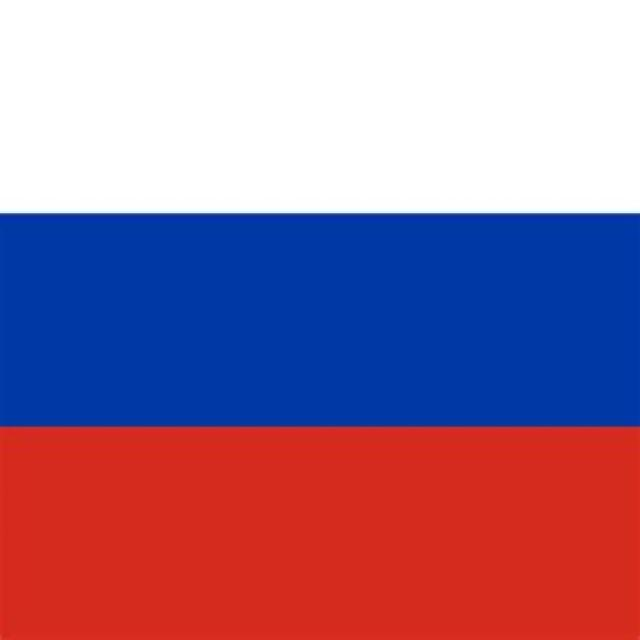russia: (24, 21, 628, 604)
